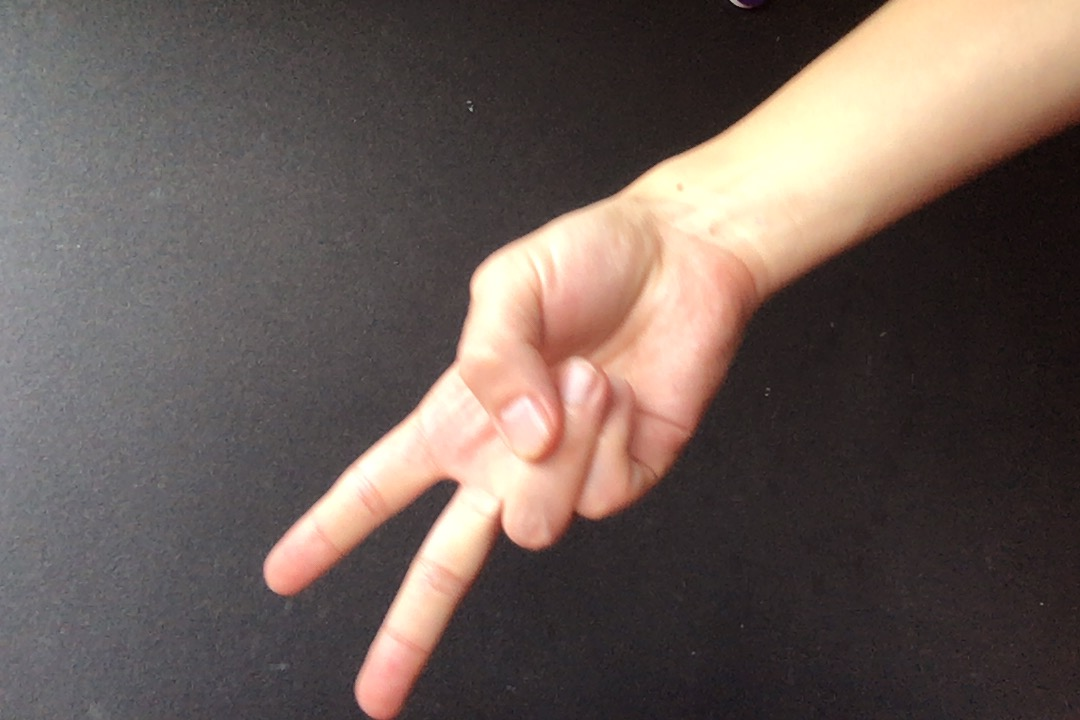peacesign: (261, 199, 744, 718)
